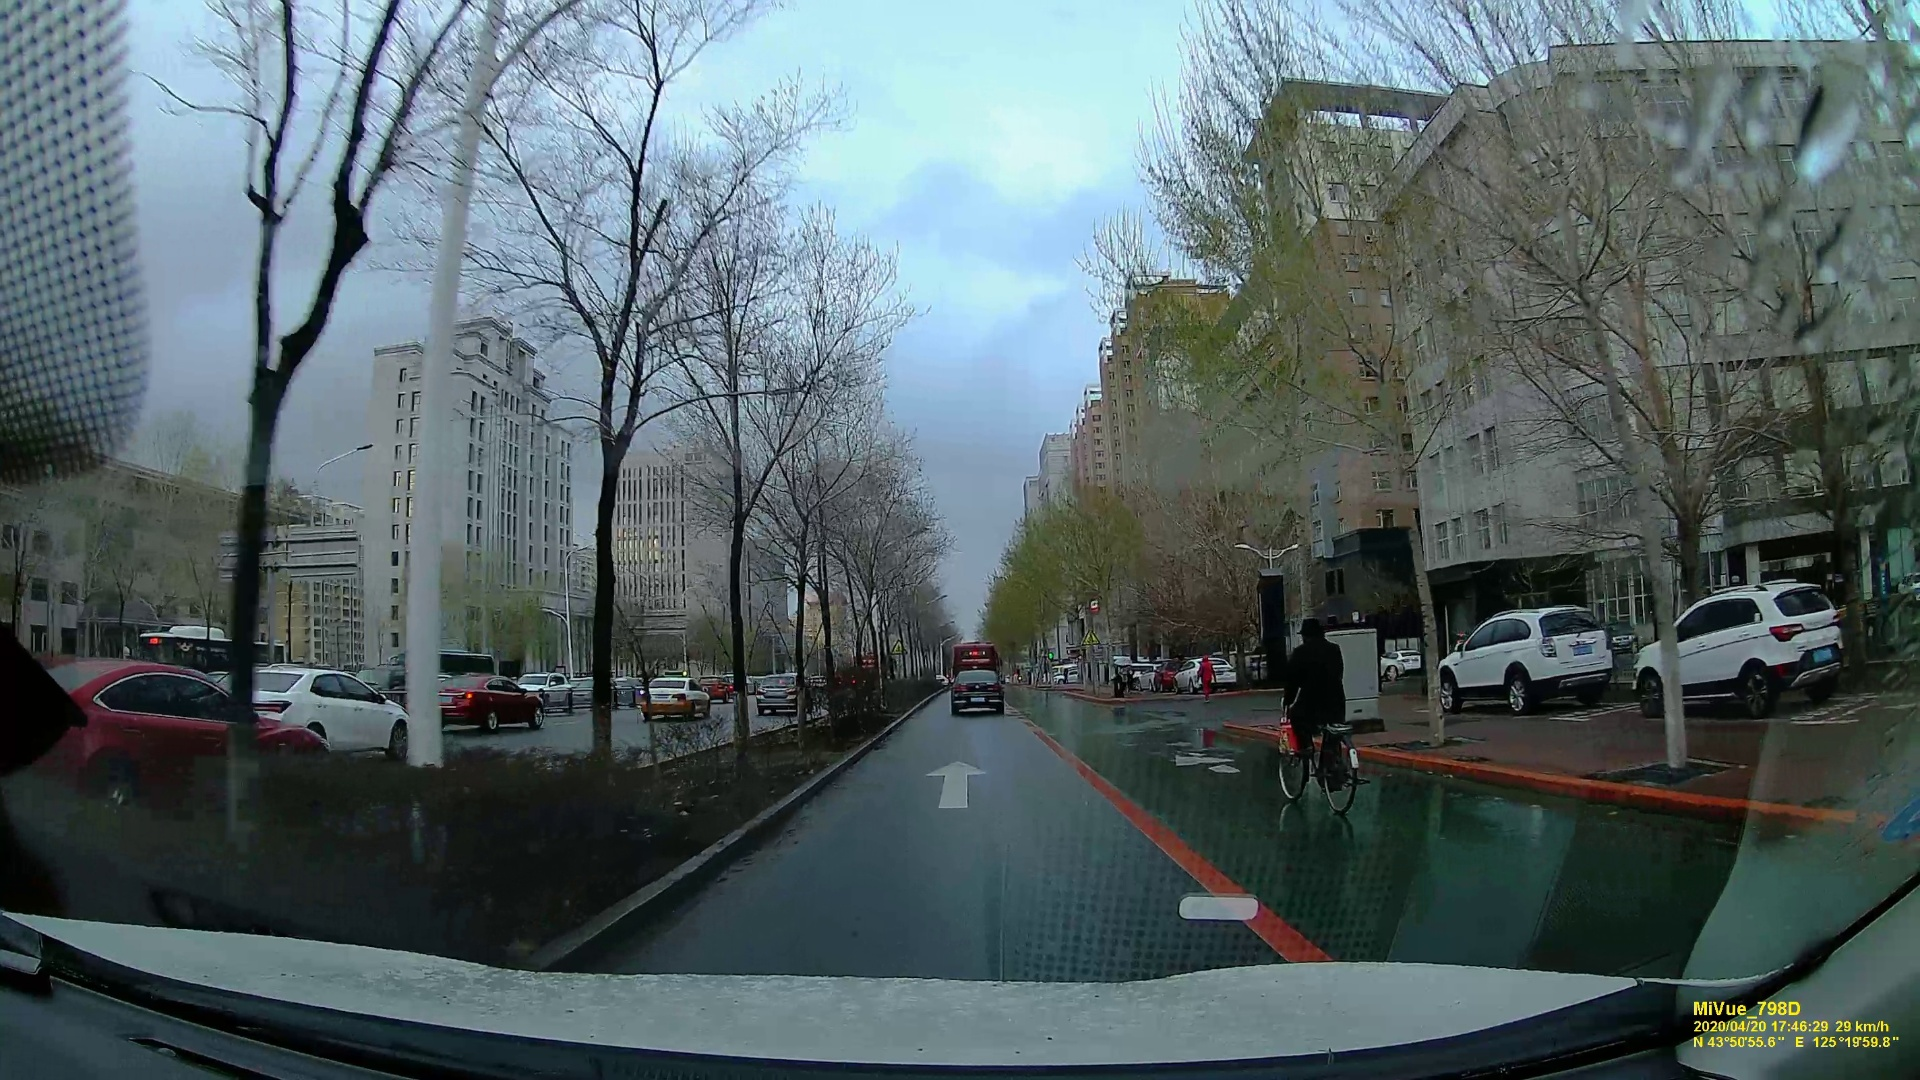bus: (954, 641, 998, 674)
person: (1274, 617, 1365, 823), (1197, 652, 1215, 702)
traffic_sign: (1080, 629, 1101, 646)
vehicle: (33, 656, 329, 824), (1639, 578, 1851, 710), (1440, 605, 1619, 714), (237, 661, 402, 757), (431, 675, 551, 733), (639, 675, 708, 723), (948, 667, 1005, 714), (752, 670, 806, 716)
